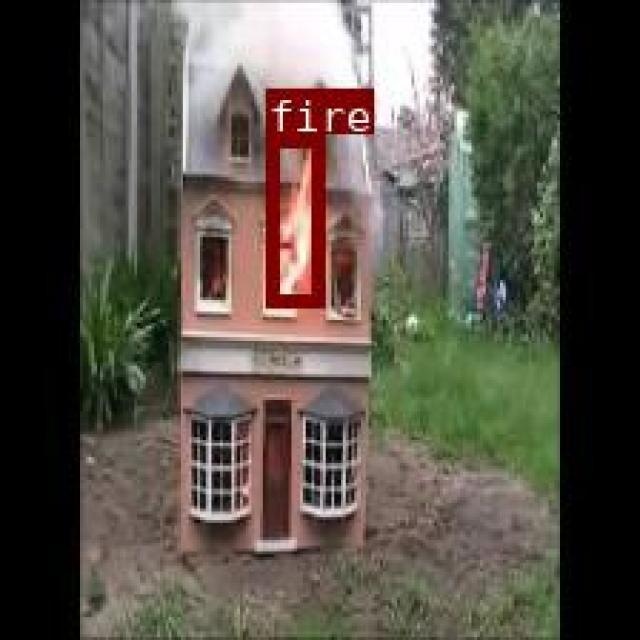fire: (265, 134, 321, 303)
